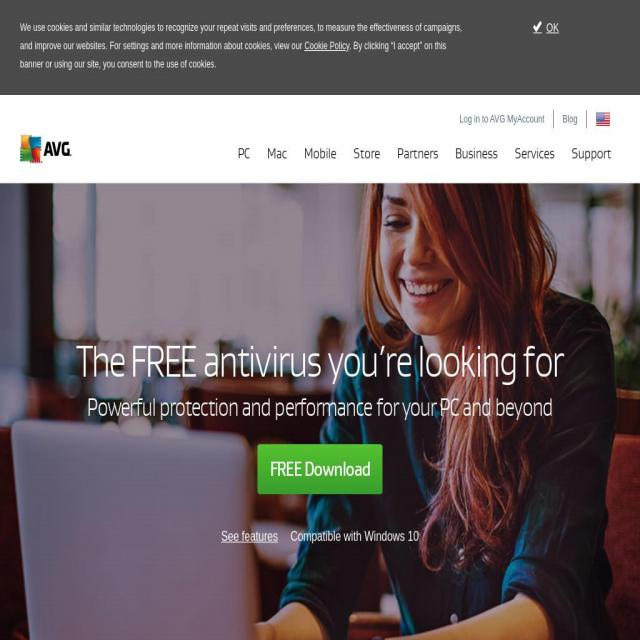download: (252, 440, 392, 503)
language: (588, 110, 622, 133)
login-option: (452, 100, 548, 137)
navigation-links: (228, 140, 616, 175)
